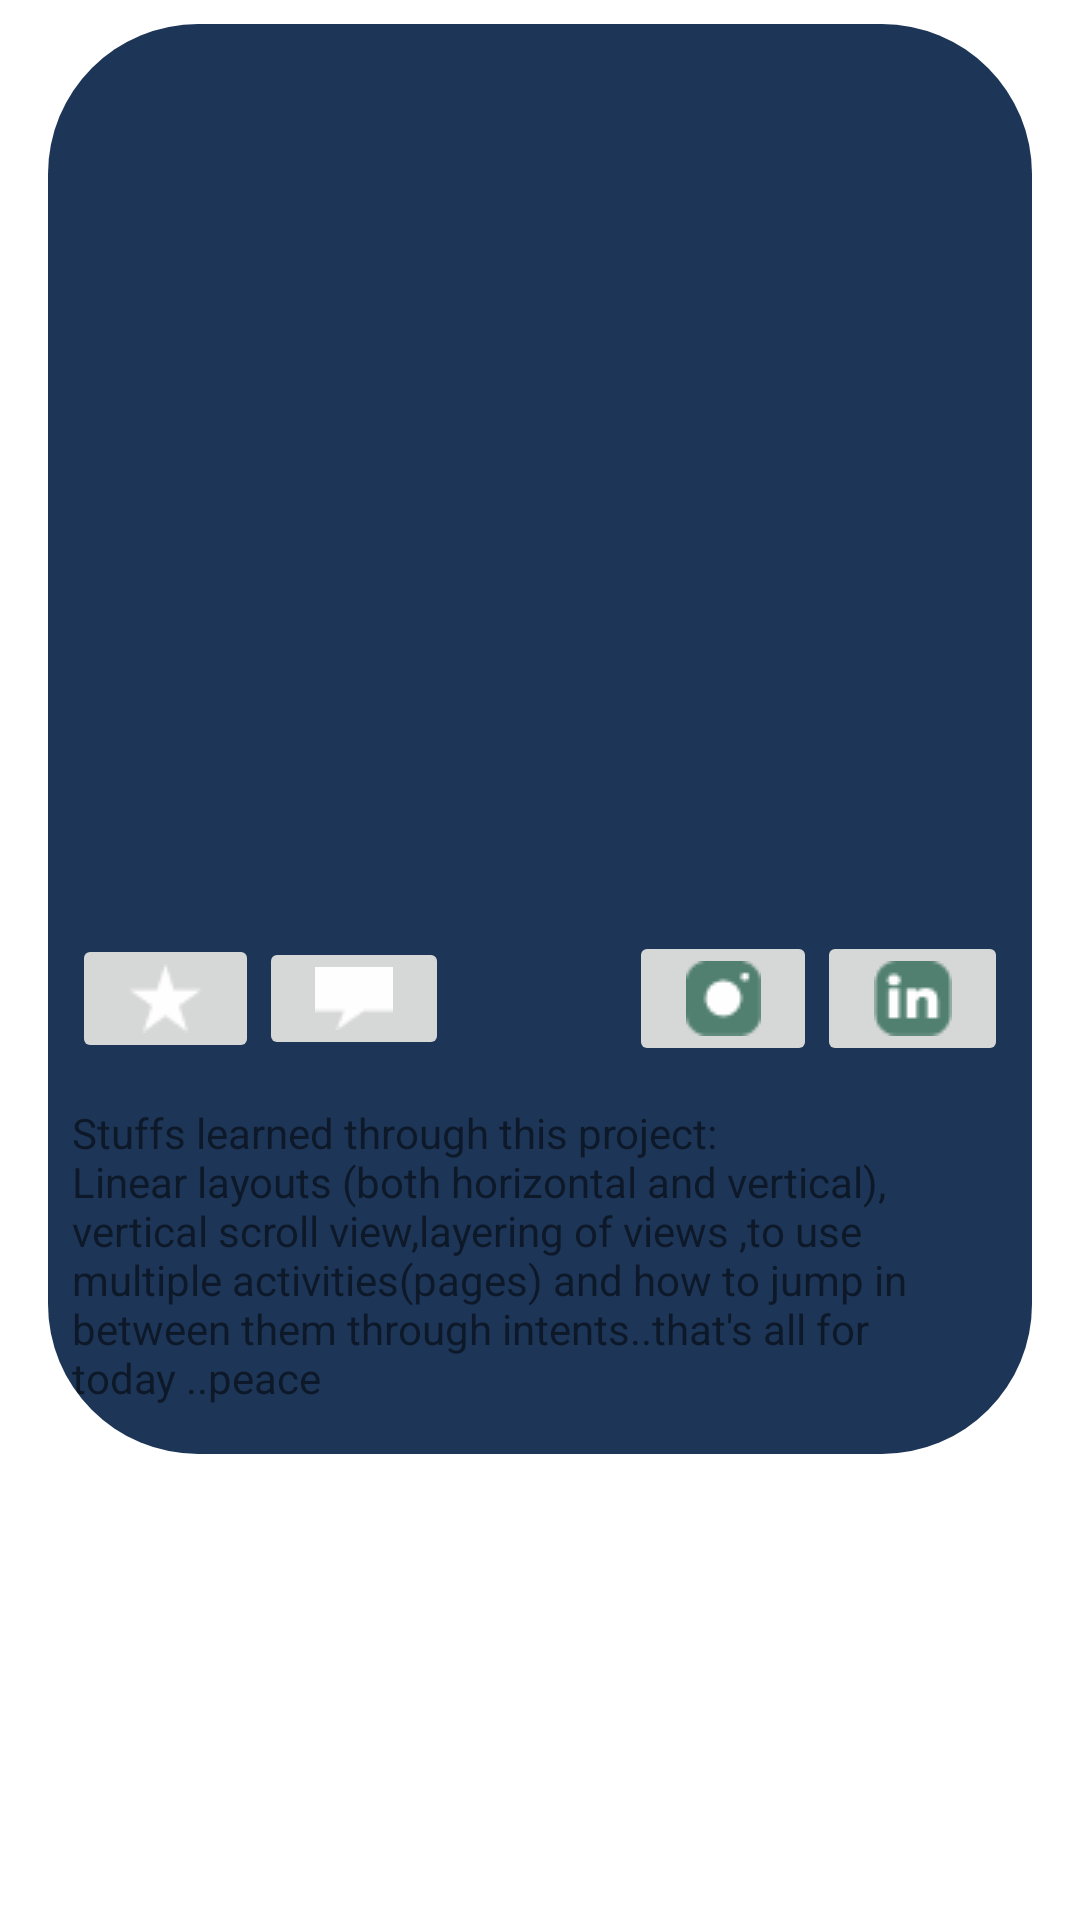

Point at icon controls on the screen. Image size 1080 × 1920, points as (x=x, y=y).
comment: (x=354, y=998)
star: (x=165, y=998)
